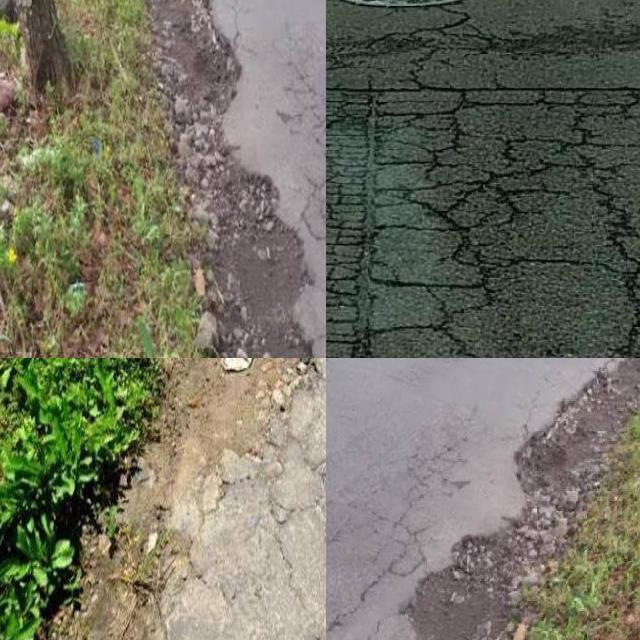Pinggir: (0, 358, 326, 615), (393, 358, 640, 640), (147, 0, 326, 358)
Retak Buaya: (326, 89, 640, 358)
